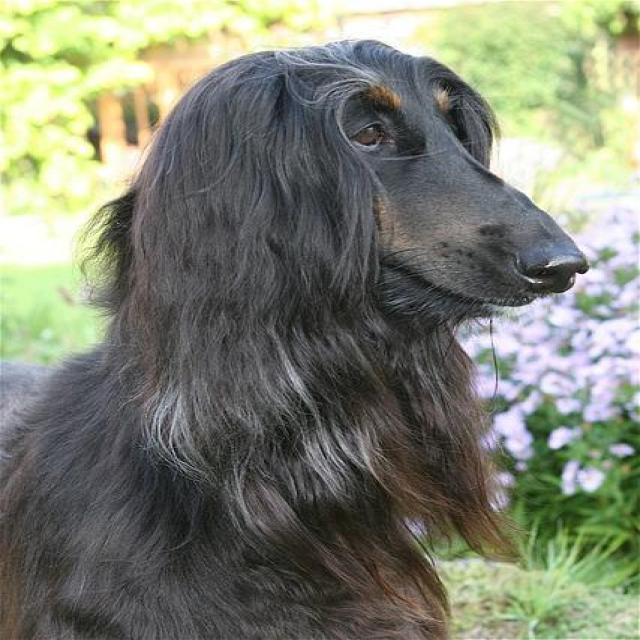afghan_hound: (0, 38, 589, 638)
